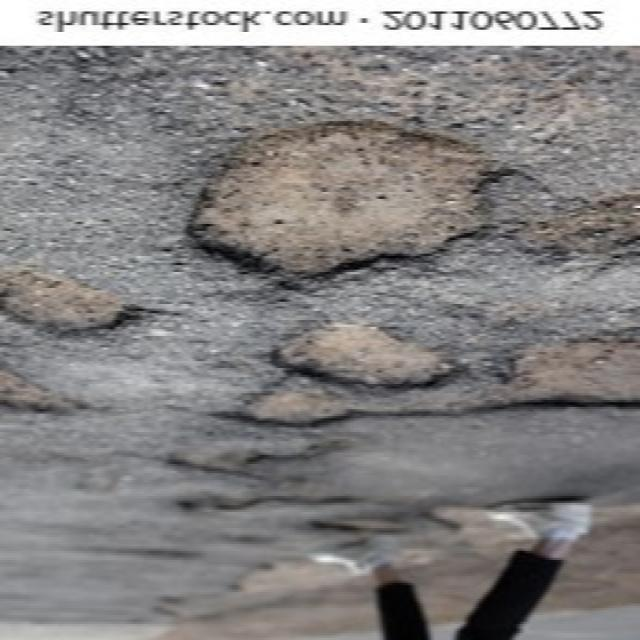Pothole: (172, 109, 496, 287), (260, 303, 458, 396), (503, 172, 640, 282), (488, 329, 640, 427), (165, 434, 360, 509), (0, 264, 155, 346), (0, 355, 99, 421), (223, 383, 352, 433), (314, 508, 432, 541)
